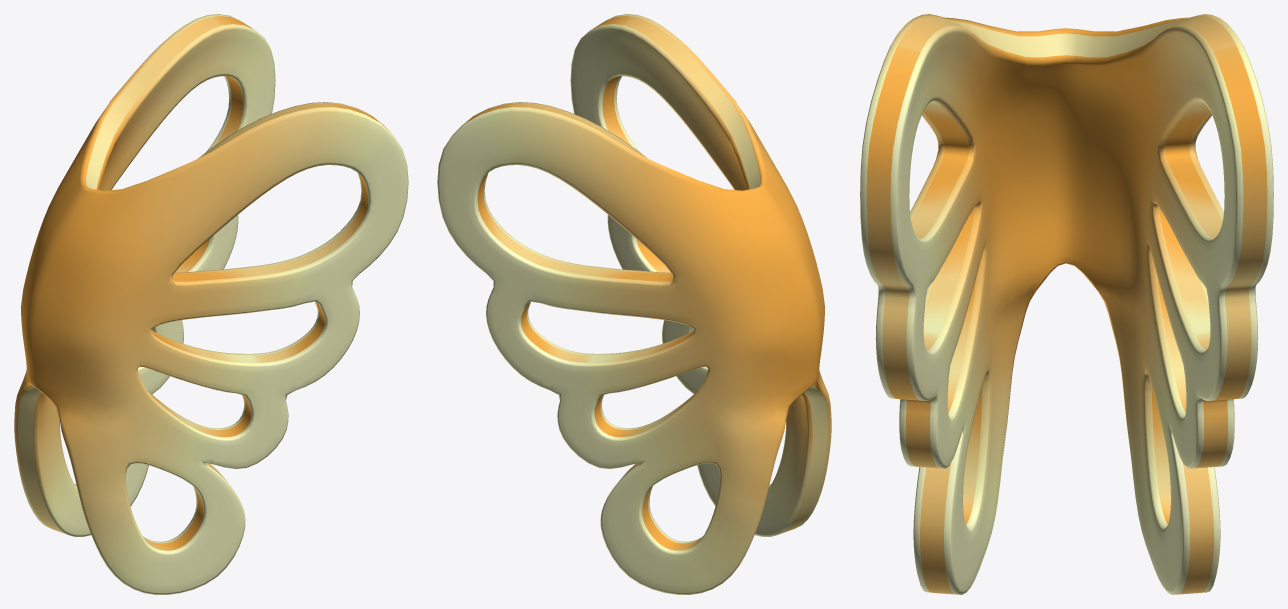
Rendered from tester-3.fbx.
3 renders of one model, left to right at view 1: azimuth 30°, elevation 25°; view 2: azimuth 150°, elevation 25°; view 3: azimuth 270°, elevation 25°, orthographic. The views are drawn at different scales.
Parts seen in each view (by area): view 1: polySurface3; view 2: polySurface3; view 3: polySurface3.
Boxes of the visible parts, x1,y1,x2,y2 form: polySurface3: (14,14,408,594); polySurface3: (437,14,831,594); polySurface3: (860,14,1273,594).
Bounding box in the file's own units: 12.27 × 17.54 × 10.32.
